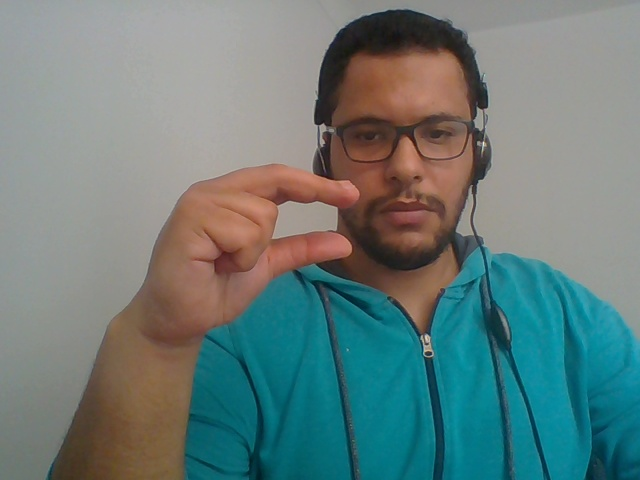no: (94, 150, 369, 352)
